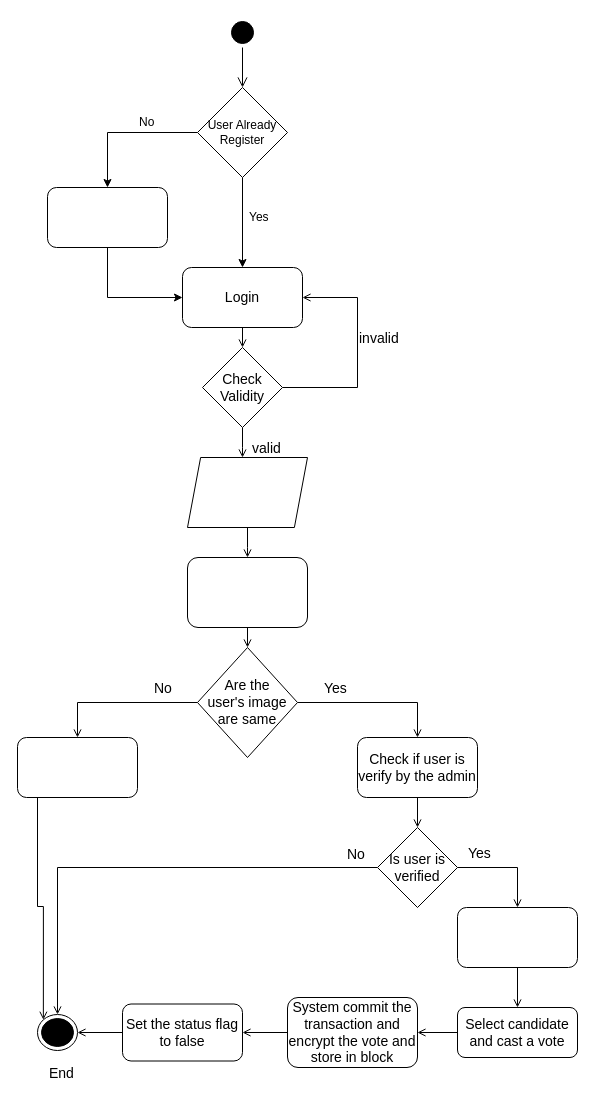
The diagram is 595 pixels wide and 1100 high, and some of its shapes have lost their labels. The shapes that lost their labels are listed below. From the top down, each one's centre as x and y in pixels, then its label:
At point 107,217: "Register".
At point 247,492: "Ask the user to capture the image".
At point 247,592: "Compare the captured image with image in database".
At point 77,767: "Reject the user voting".
At point 517,937: "Display the list of candidates".
